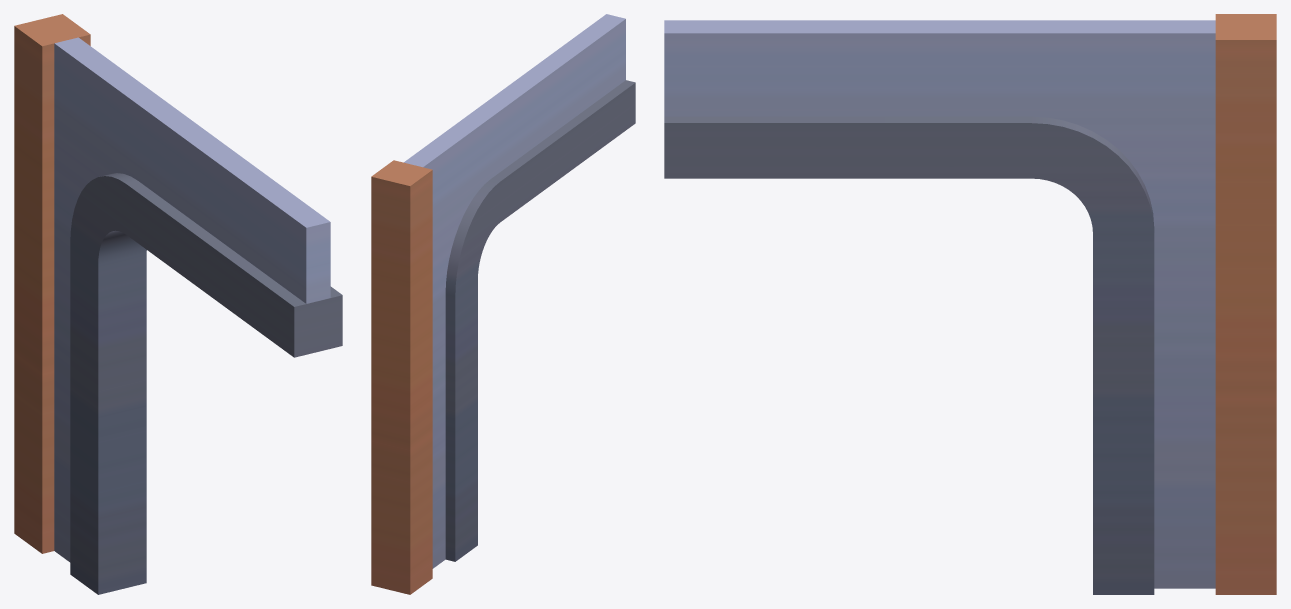
Rendered from wall-doorway-square-wide-curved.glb.
3 views of the same model, side by side, from view 1: azimuth 30°, elevation 25°; view 2: azimuth 150°, elevation 25°; view 3: azimuth 270°, elevation 25° (orthographic). The views are drawn at different scales.
Visible parts, largest first — view 1: wall-doorway-square-wide-curved; view 2: wall-doorway-square-wide-curved; view 3: wall-doorway-square-wide-curved.
Boxes of the visible parts, x1,y1,x2,y2 form: wall-doorway-square-wide-curved: (14, 14, 342, 594); wall-doorway-square-wide-curved: (371, 14, 635, 594); wall-doorway-square-wide-curved: (664, 14, 1276, 594).
Size of the model in its own units: 0.1 by 1 by 1.
Materials: 1 (1 with a texture image).
